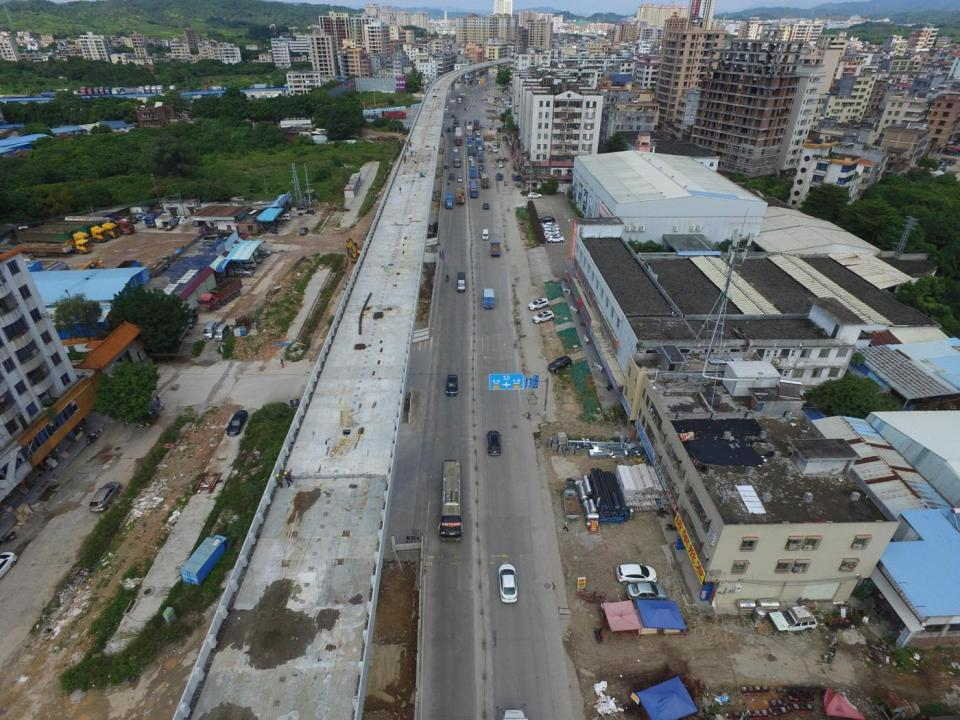bus: (437, 459, 464, 542), (454, 152, 461, 167)
car: (89, 482, 119, 512), (617, 564, 658, 585), (626, 582, 666, 603), (499, 564, 517, 603), (0, 552, 19, 586), (228, 410, 248, 438), (548, 356, 572, 373), (487, 430, 501, 455), (446, 374, 460, 396), (534, 310, 555, 324), (526, 298, 548, 309), (185, 313, 199, 329), (233, 268, 254, 276), (253, 248, 272, 255), (548, 235, 564, 243), (538, 216, 555, 223), (542, 222, 559, 228), (246, 256, 263, 262), (481, 229, 489, 240), (193, 219, 204, 227), (544, 229, 560, 234), (545, 234, 564, 238), (546, 226, 560, 231), (528, 193, 542, 198), (299, 227, 308, 234), (492, 147, 498, 152), (298, 210, 303, 216), (484, 203, 488, 209), (450, 173, 454, 179), (479, 164, 483, 169), (469, 156, 473, 161), (476, 131, 480, 136), (453, 148, 458, 152), (458, 176, 462, 181), (504, 137, 508, 140), (481, 124, 484, 128), (455, 117, 458, 120), (448, 128, 450, 132)
truck: (182, 534, 228, 586), (16, 225, 92, 247), (198, 277, 244, 310), (14, 234, 90, 253), (47, 219, 120, 237), (35, 224, 108, 242), (67, 216, 133, 234), (0, 241, 71, 254), (34, 260, 70, 284), (562, 487, 580, 520), (145, 208, 164, 228), (162, 215, 179, 231), (156, 212, 172, 229), (482, 288, 494, 309), (381, 110, 407, 118), (489, 241, 500, 256), (469, 180, 478, 198), (458, 272, 466, 292), (455, 127, 462, 145), (481, 174, 489, 188), (446, 194, 453, 209), (475, 137, 482, 148), (470, 168, 477, 178), (478, 152, 484, 163), (466, 126, 472, 137), (453, 120, 459, 131), (468, 147, 475, 156), (474, 120, 479, 130)
van: (777, 610, 817, 632), (214, 324, 230, 340), (203, 321, 216, 339), (275, 213, 291, 222), (237, 261, 256, 268), (471, 160, 476, 166), (478, 146, 483, 152), (479, 168, 484, 173), (496, 144, 500, 149), (468, 143, 472, 147)
